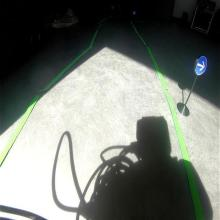right: (194, 55, 208, 76)
